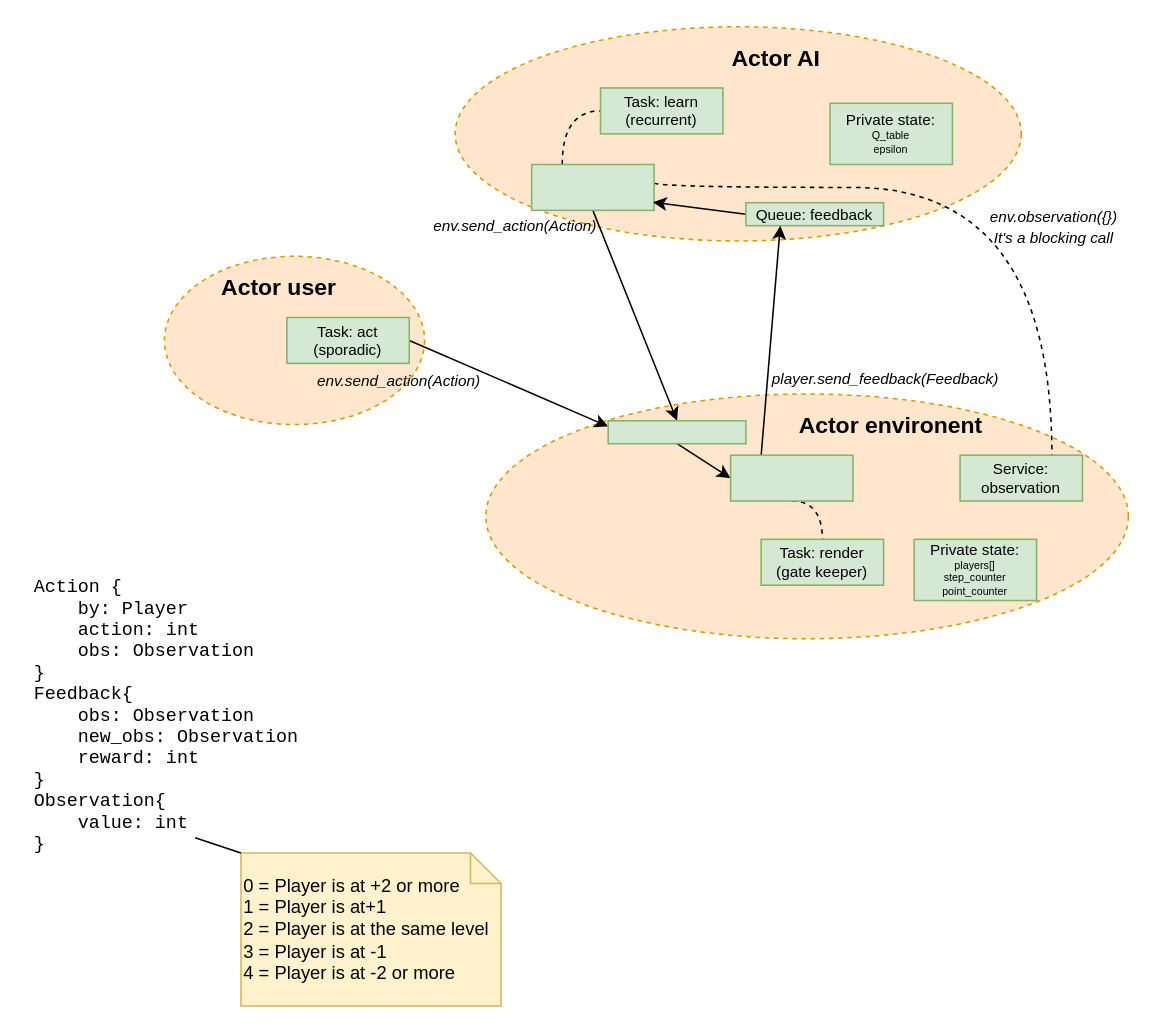
The diagram is 1155 pixels wide and 1033 high, and some of its shapes have lost their labels. Each missing label, with the centre of its shape:
"Queue: actions" goes at point (676, 431).
"Task: act (recurrent)" goes at point (592, 186).
"Task: step (recurrent)" goes at point (791, 477).
